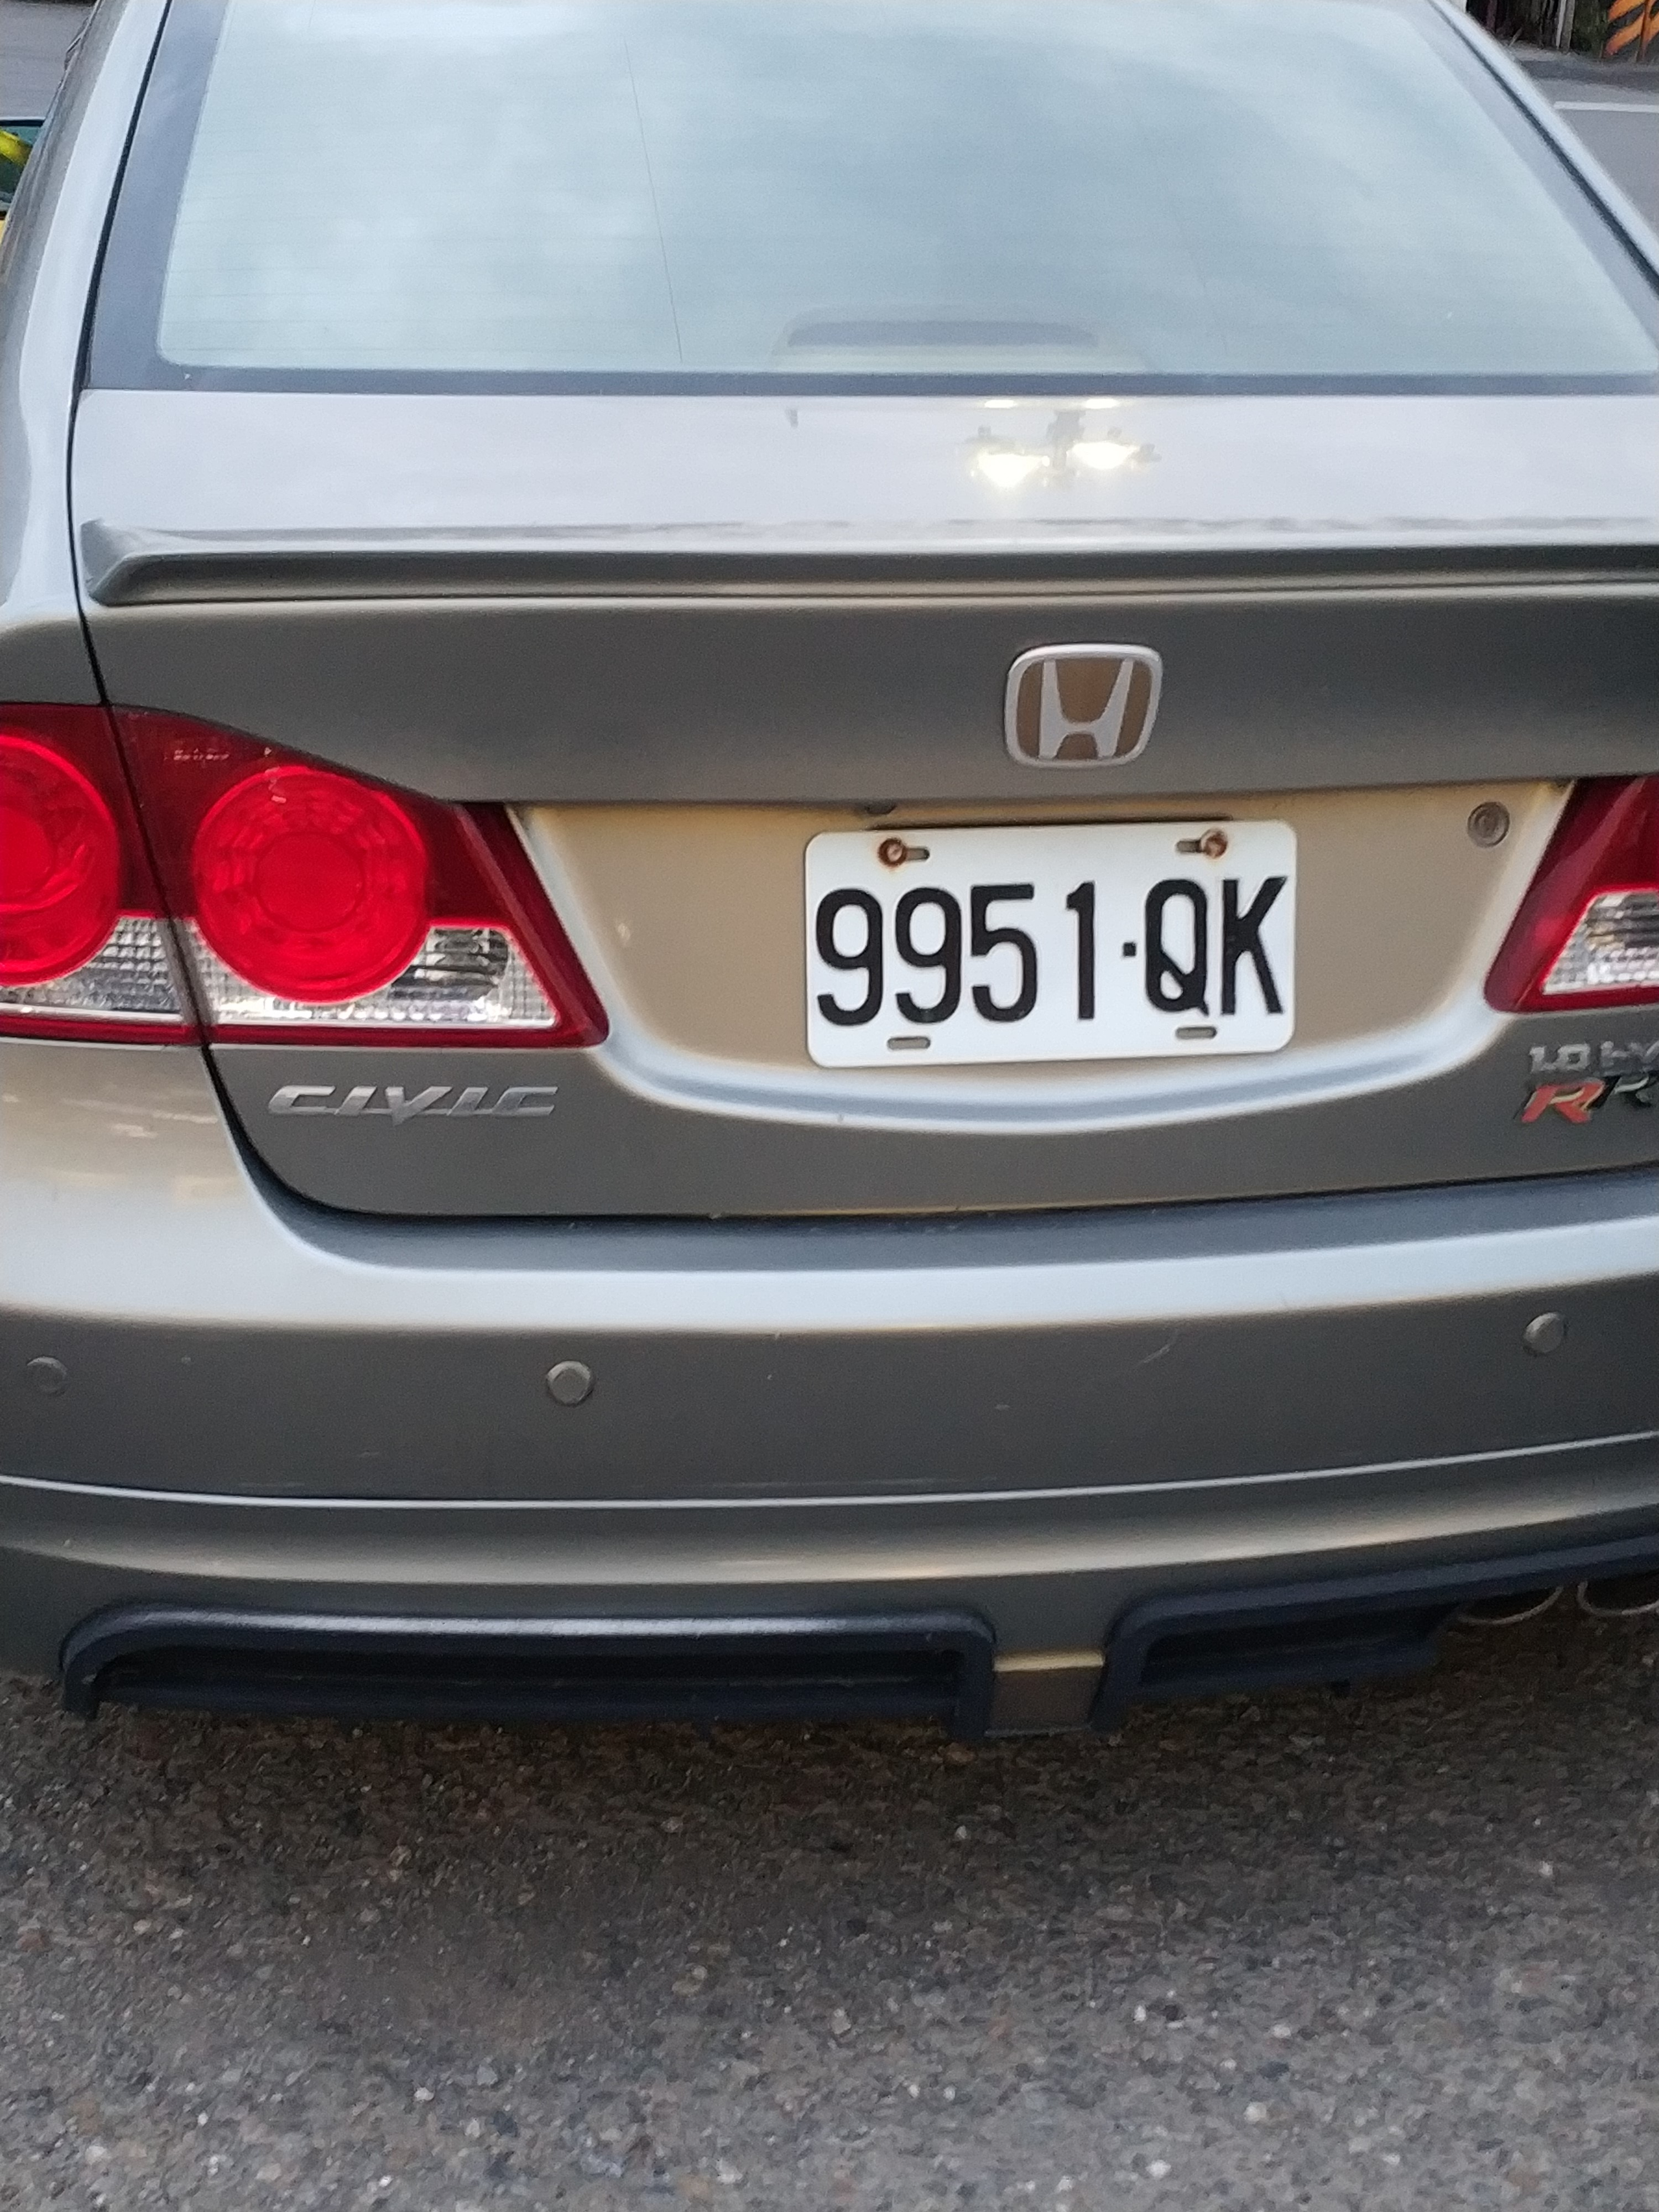car: (0, 7, 1652, 1742)
car_card: (807, 827, 1297, 1052)
